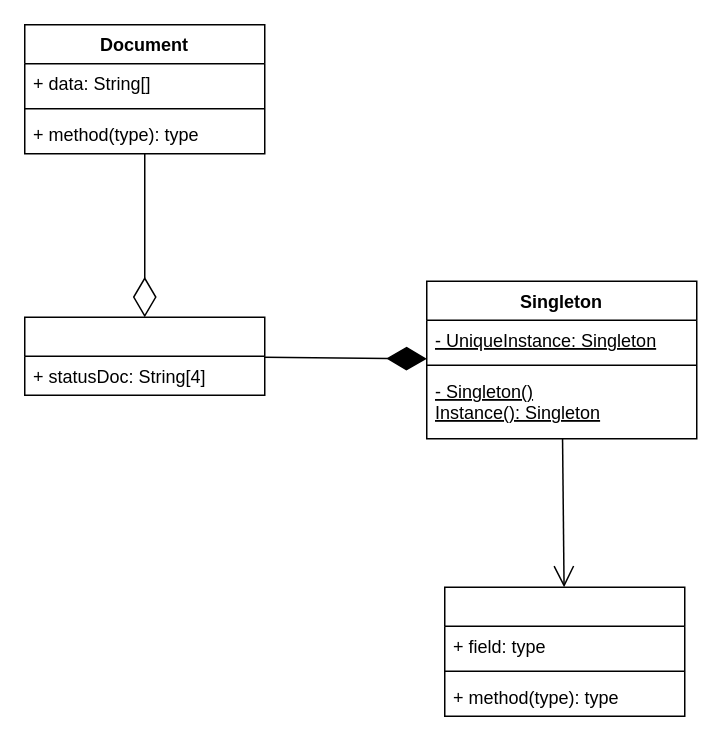
Image size: 722x741. Some labels were removed from this diagram. The shapes that lost their labels are listed below. From the top down, each one's box as (x1, y1, x2, y2) in pixels, then its label:
(23, 316, 265, 395): Queue
(443, 586, 685, 716): Printer
